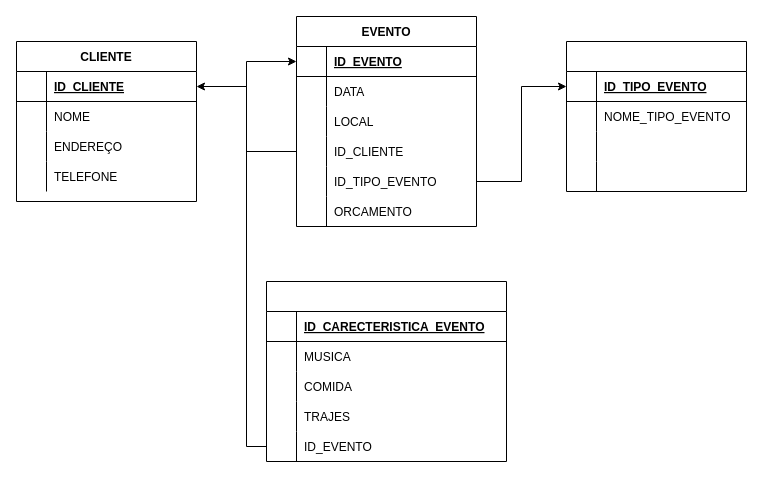
This 763x478 diagram has some shape labels left out. Each missing label, with the box of its shape:
CARACTERISTA_EVENTO: (266, 280, 506, 462)
TIPO_DE_EVENTO: (566, 40, 746, 192)
